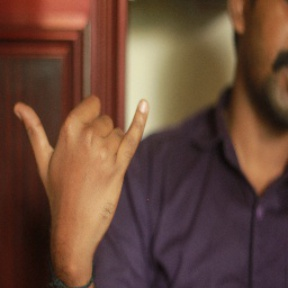J: (13, 81, 147, 232)
